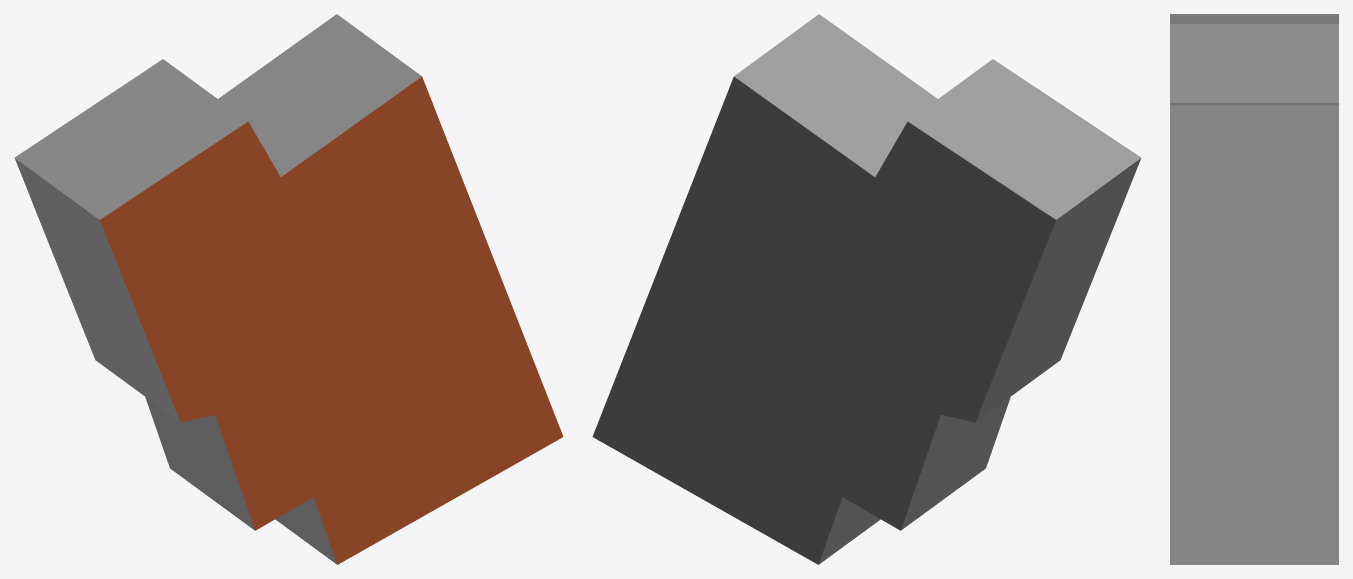
Rendered from construction_2131_assumed_A_Casa_h6m.obj.
3 renders of one model, left to right at view 1: azimuth 30°, elevation 25°; view 2: azimuth 150°, elevation 25°; view 3: azimuth 270°, elevation 25°, orthographic.
Visible parts, largest first — view 1: construction_2131_assumed_A_Casa; view 2: construction_2131_assumed_A_Casa; view 3: construction_2131_assumed_A_Casa.
Part boxes in pixels (x1,y1,x2,y2): construction_2131_assumed_A_Casa: (14,14,563,564); construction_2131_assumed_A_Casa: (592,14,1141,564); construction_2131_assumed_A_Casa: (1170,14,1338,564).
Bounding box in the file's own units: 18.85 × 18.17 × 6.
